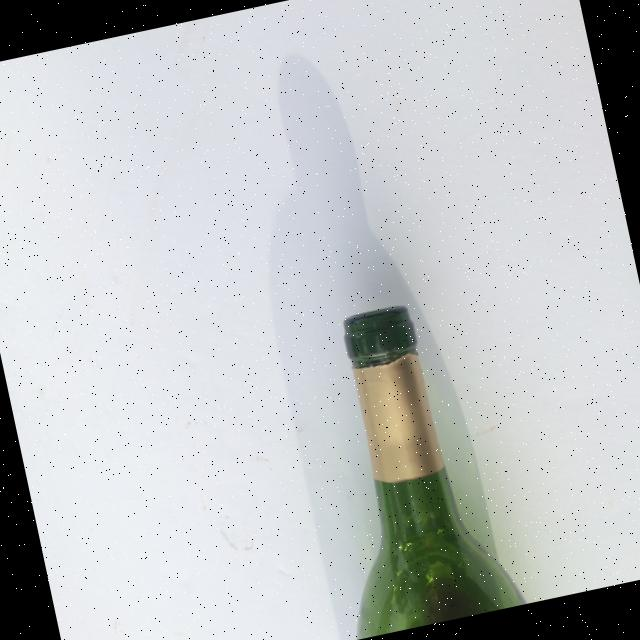glass: (289, 290, 526, 638)
